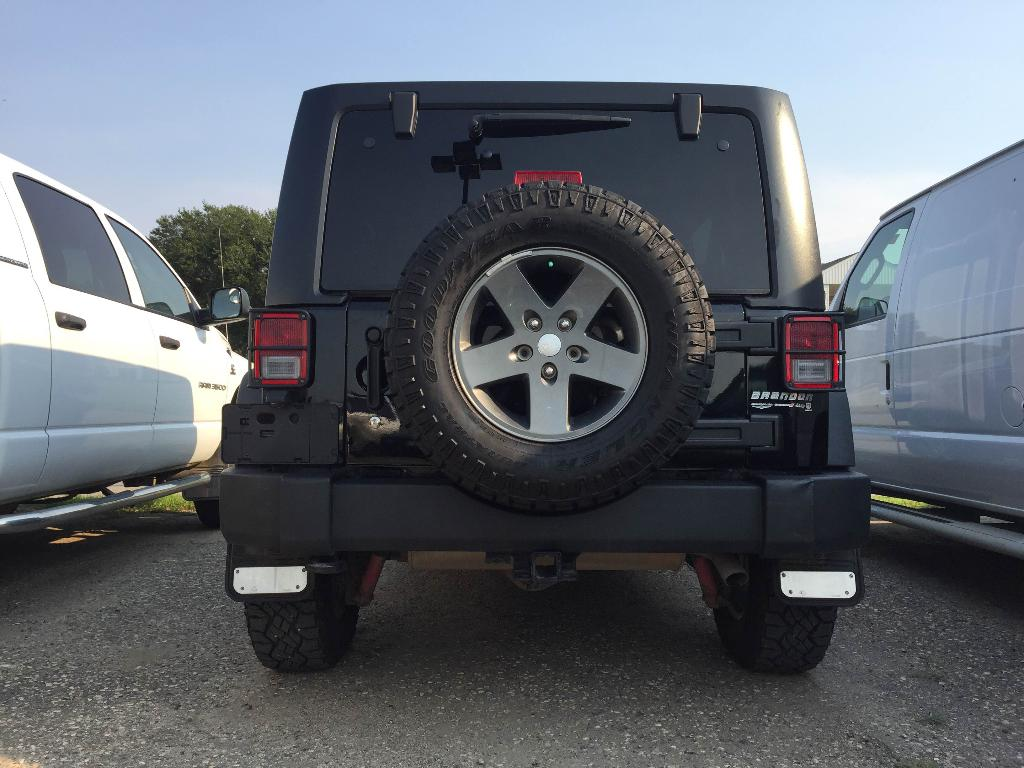Car: (213, 86, 874, 669), (0, 151, 257, 560)
